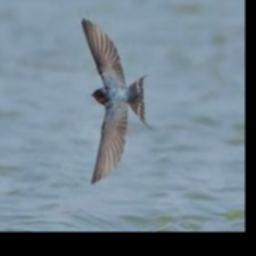Swallow: (82, 18, 155, 185)
